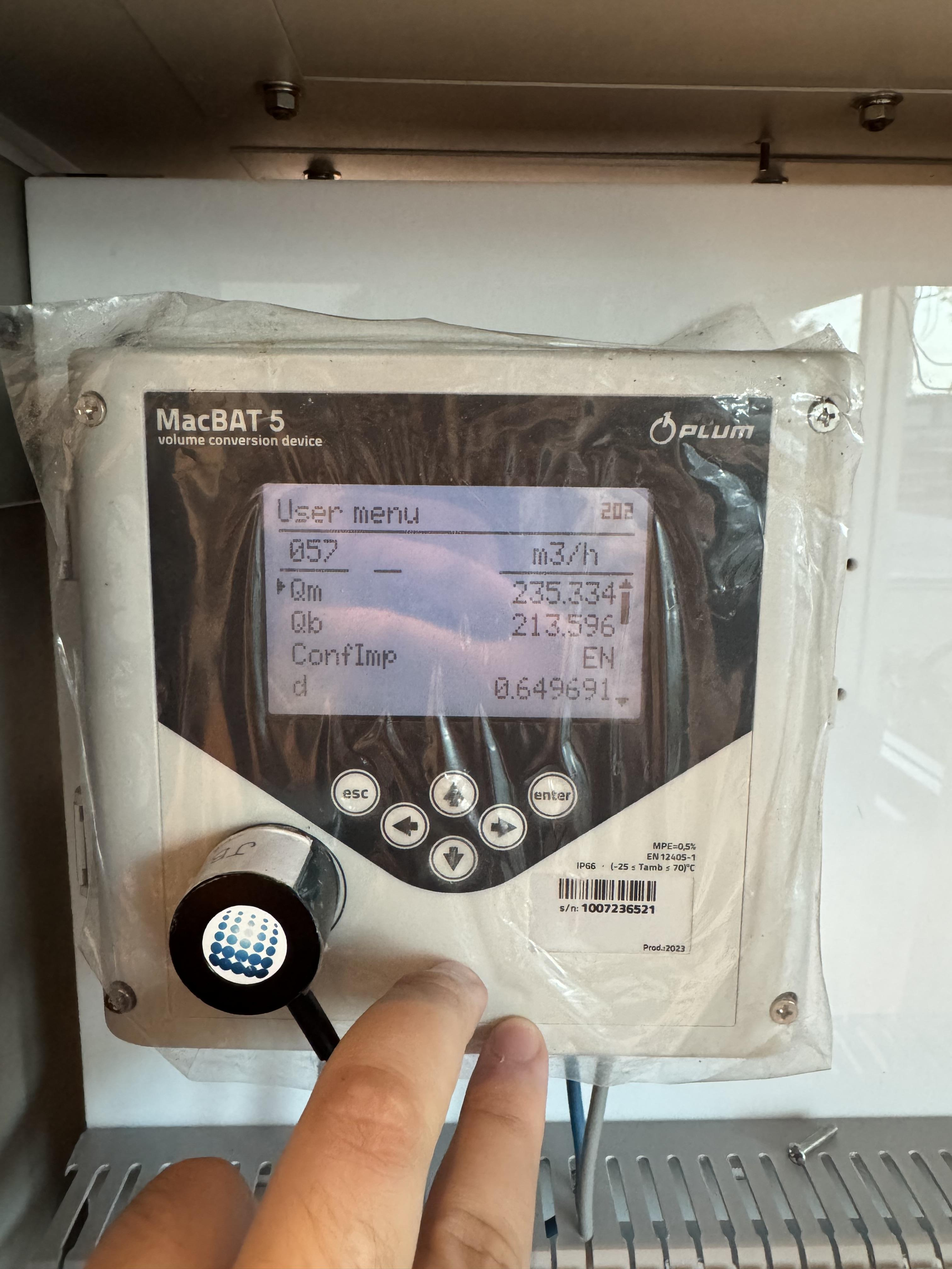digital_screen: (256, 479, 652, 724)
